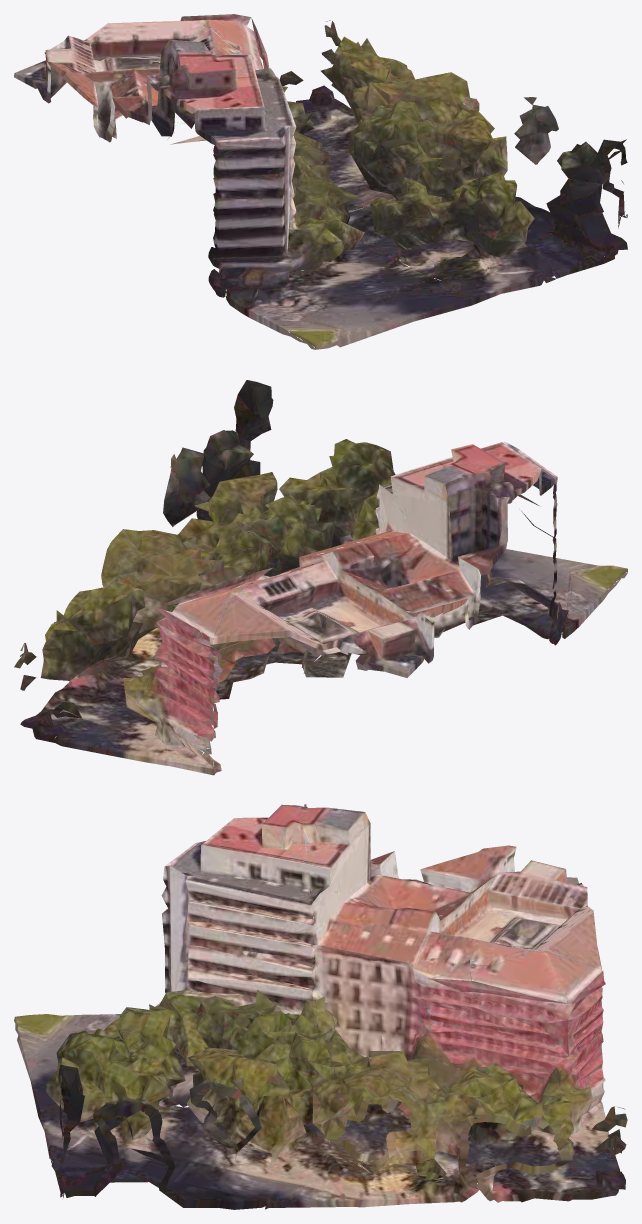
3 renders of one model, top to bottom at view 1: azimuth 30°, elevation 25°; view 2: azimuth 150°, elevation 25°; view 3: azimuth 270°, elevation 25°, orthographic. The views are drawn at different scales.
Parts seen in each view (by area): view 1: Mesh_0; view 2: Mesh_0; view 3: Mesh_0.
Boxes of the visible parts, x1,y1,x2,y2 form: Mesh_0: (14, 14, 627, 349); Mesh_0: (14, 380, 627, 775); Mesh_0: (14, 804, 627, 1209).
Size of the model in its own units: 66.58 by 35.72 by 82.69.
Materials: 1 (1 with a texture image).
